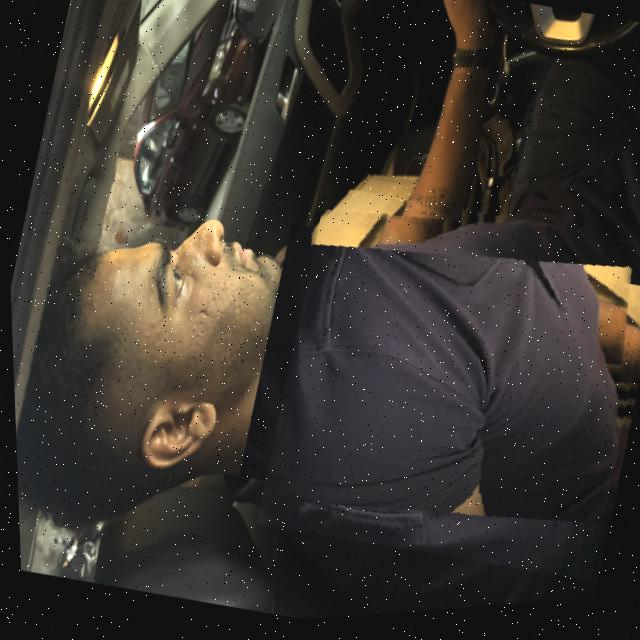no-seatbelt: (241, 171, 640, 608)
